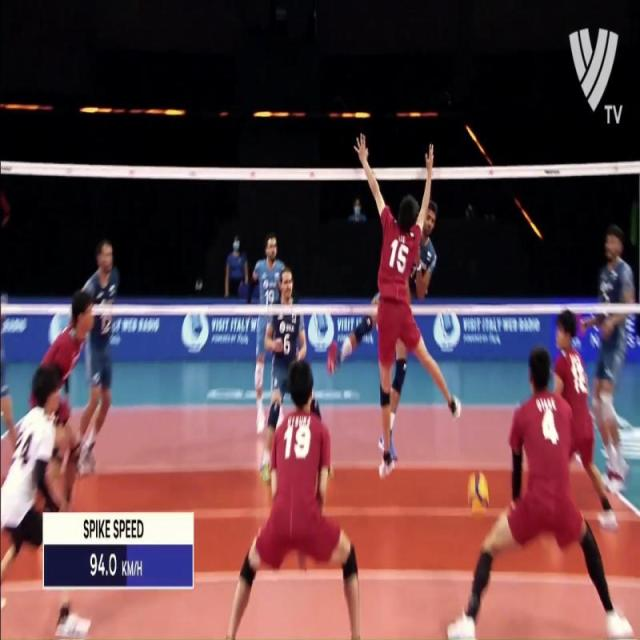volleyball: (466, 466, 490, 516)
